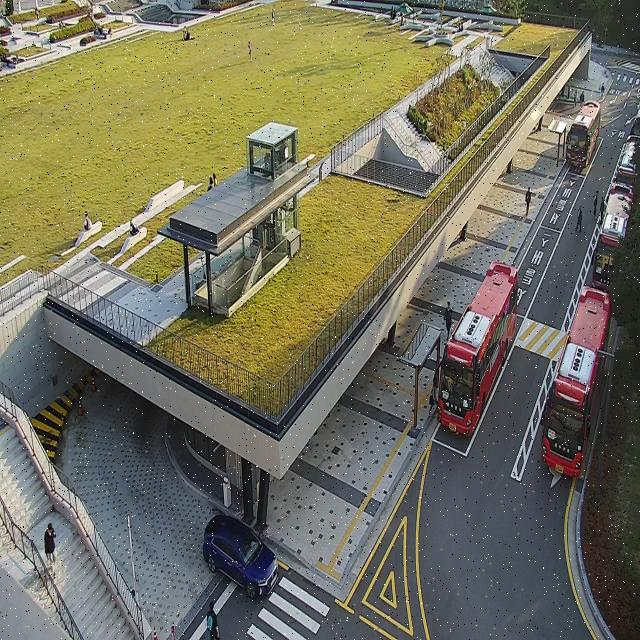queue: (418, 324, 442, 428)
